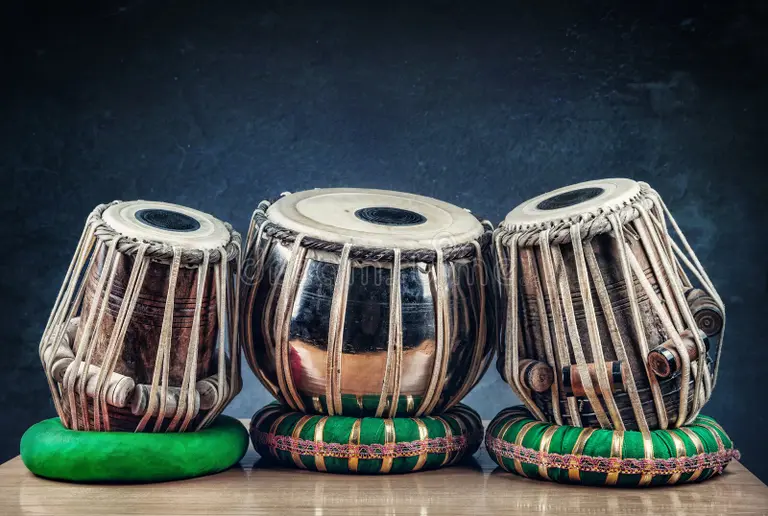tabla: (495, 177, 723, 434), (245, 187, 494, 414), (43, 197, 246, 429)
